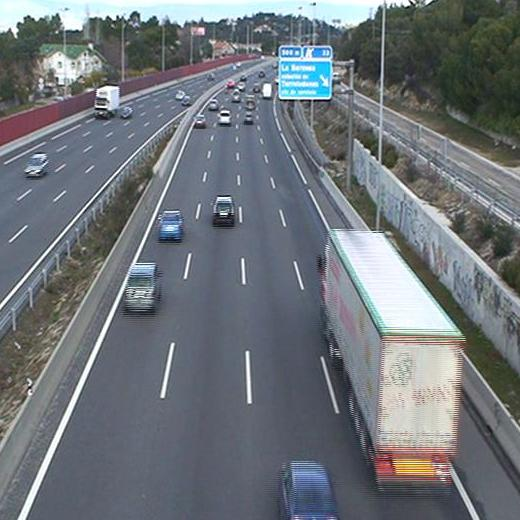car: (276, 459, 339, 520), (123, 263, 163, 310), (156, 210, 185, 238), (212, 196, 237, 223), (217, 109, 231, 124), (194, 115, 207, 127), (207, 98, 219, 110), (244, 111, 254, 123), (232, 89, 241, 101)
truck: (317, 228, 468, 489)
van: (262, 83, 273, 100)
